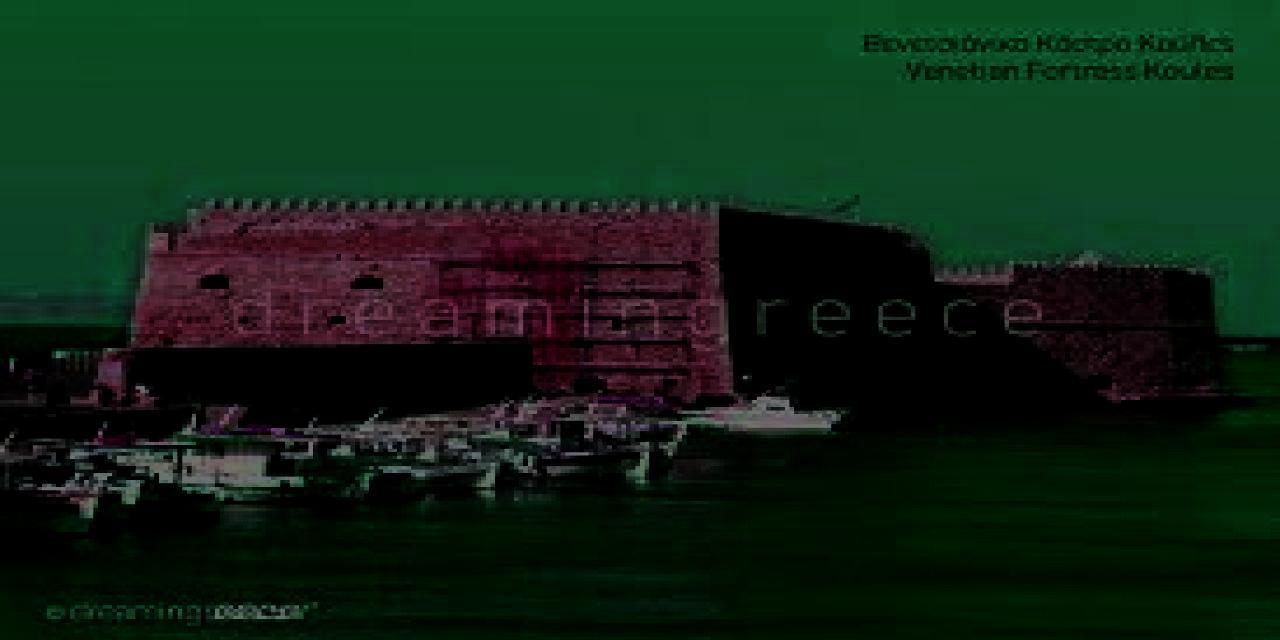Kules: (122, 197, 1246, 412)
